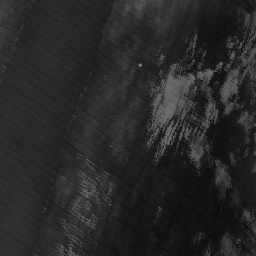Target: (137, 62, 142, 67)
